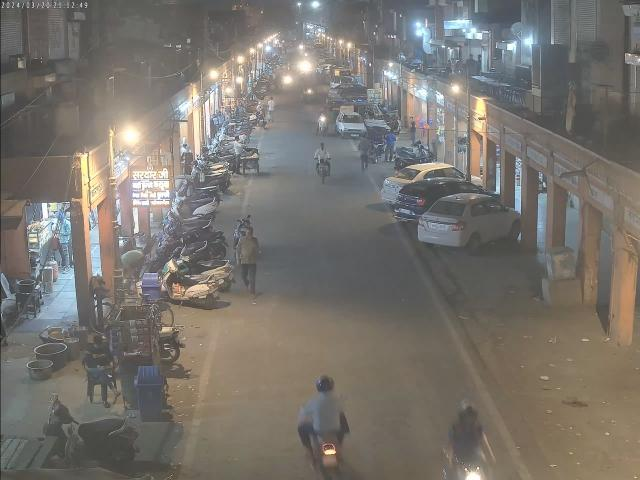car: (417, 191, 518, 254)
helmet: (316, 376, 334, 395)
motorbike-rider: (297, 375, 348, 480)
person: (157, 257, 219, 310), (236, 227, 262, 290)
scooty: (39, 402, 138, 470), (179, 248, 234, 287), (169, 200, 214, 232)
